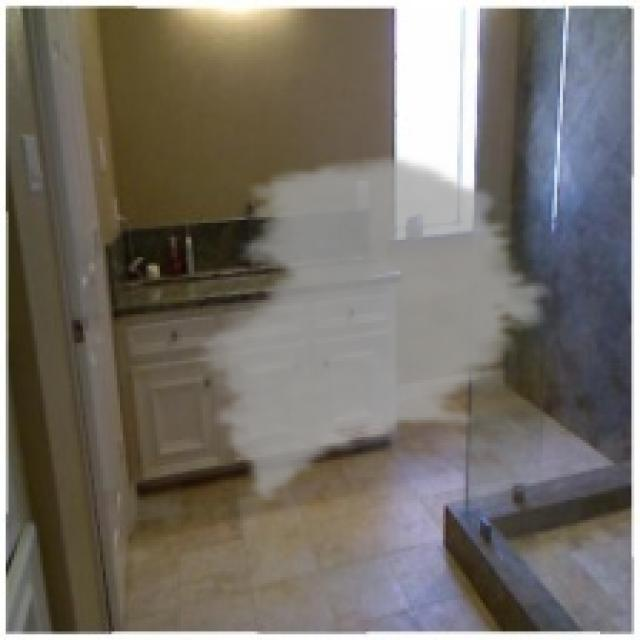smoke: (189, 151, 557, 503)
